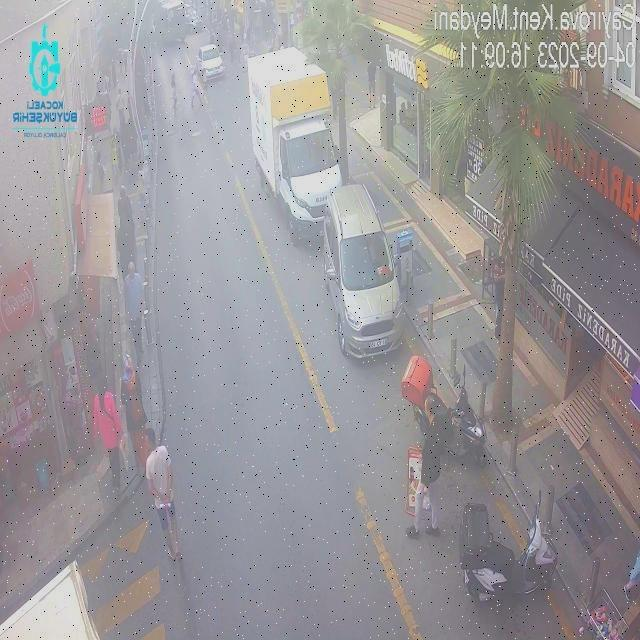Car: (324, 184, 408, 363), (195, 40, 224, 80)
Cycle: (456, 494, 561, 612), (397, 353, 490, 468)
Truck: (246, 45, 346, 243)
